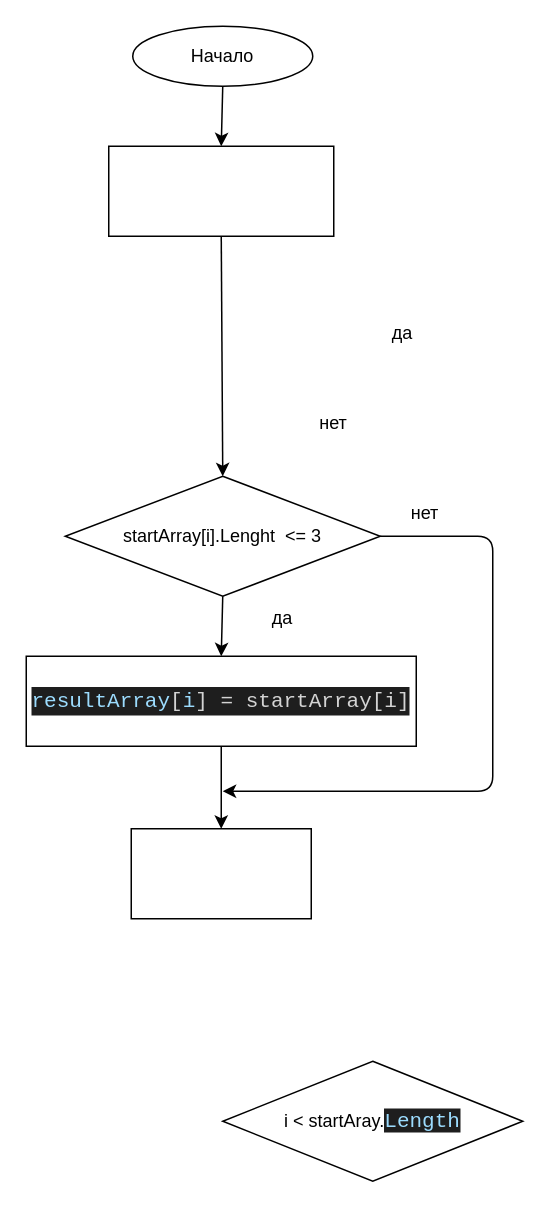
Some shapes in this 549 by 1208 pixel diagram are drawn without their labels. The centre of each missing label's shape, as x and y in pixels:
"i++" belongs at point 220,873.
"startArray resultArray i = 0" belongs at point 220,190.
